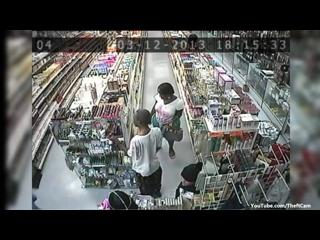Normal: (128, 108, 164, 198), (154, 82, 184, 160)
